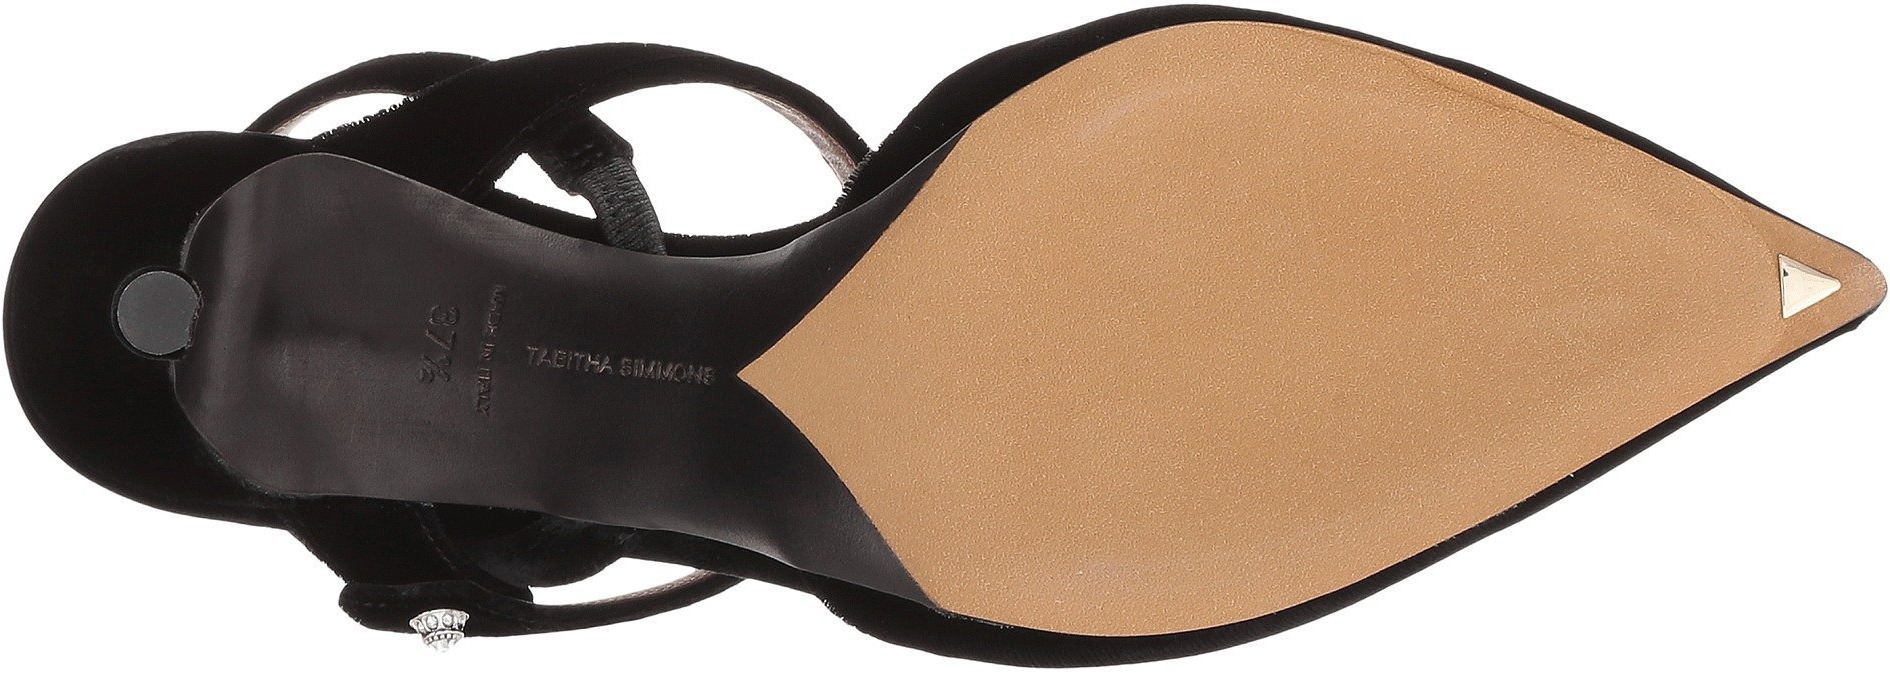other: (1134, 83, 1417, 355), (882, 246, 1128, 484), (1131, 358, 1364, 577), (1424, 199, 1640, 421), (128, 283, 184, 336)
triangle: (1735, 226, 1849, 334)
